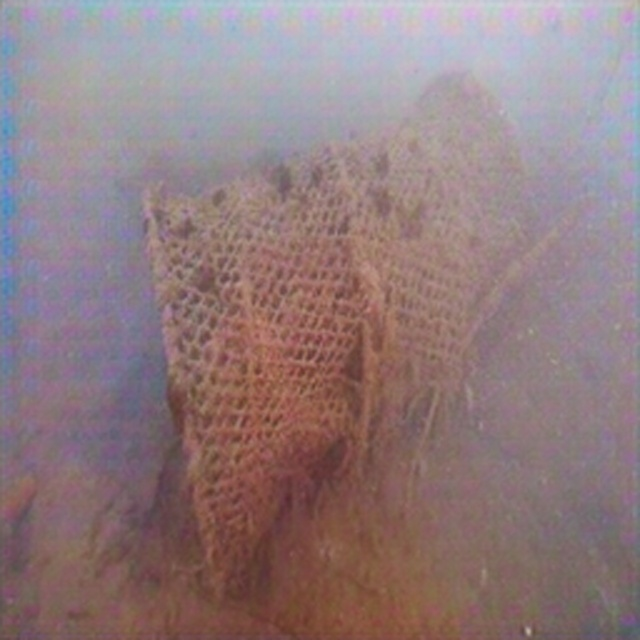mine: (137, 62, 543, 607)
